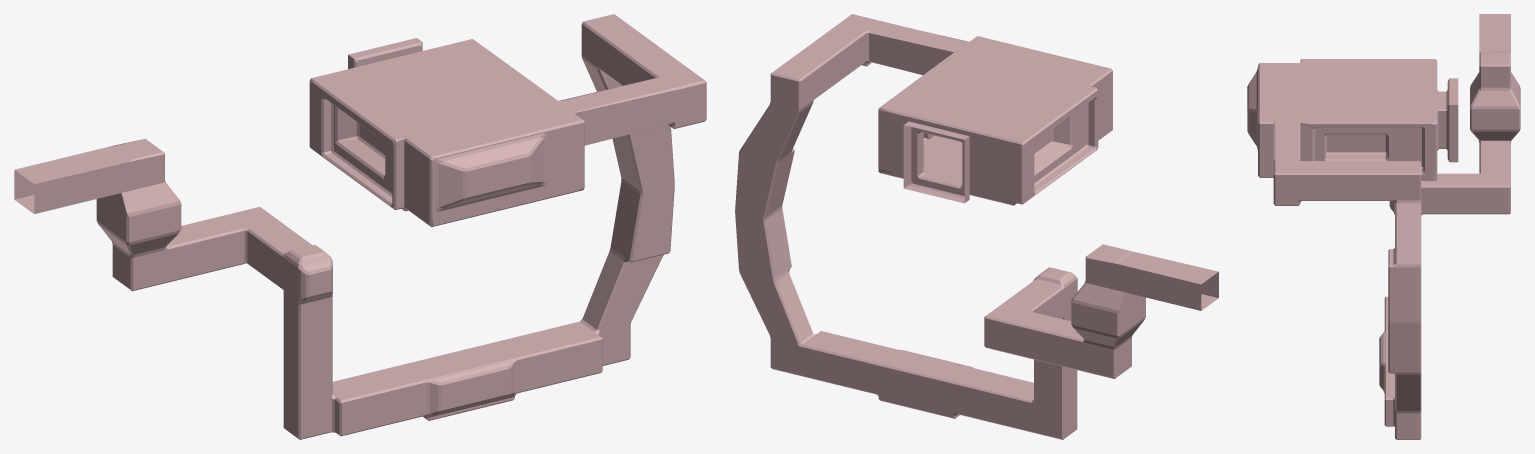
Rendered from ReactorTunnel2.fbx.
3 views of the same model, side by side, from view 1: azimuth 30°, elevation 25°; view 2: azimuth 150°, elevation 25°; view 3: azimuth 270°, elevation 25° (orthographic). The views are drawn at different scales.
Parts seen in each view (by area): view 1: 1-ReactorTunnel; view 2: 1-ReactorTunnel; view 3: 1-ReactorTunnel.
Boxes of the visible parts, <box> form: 1-ReactorTunnel: <box>14,14,706,439</box>; 1-ReactorTunnel: <box>735,14,1218,439</box>; 1-ReactorTunnel: <box>1247,14,1520,439</box>.
Size of the model in its own units: 1020 by 570 by 518.
